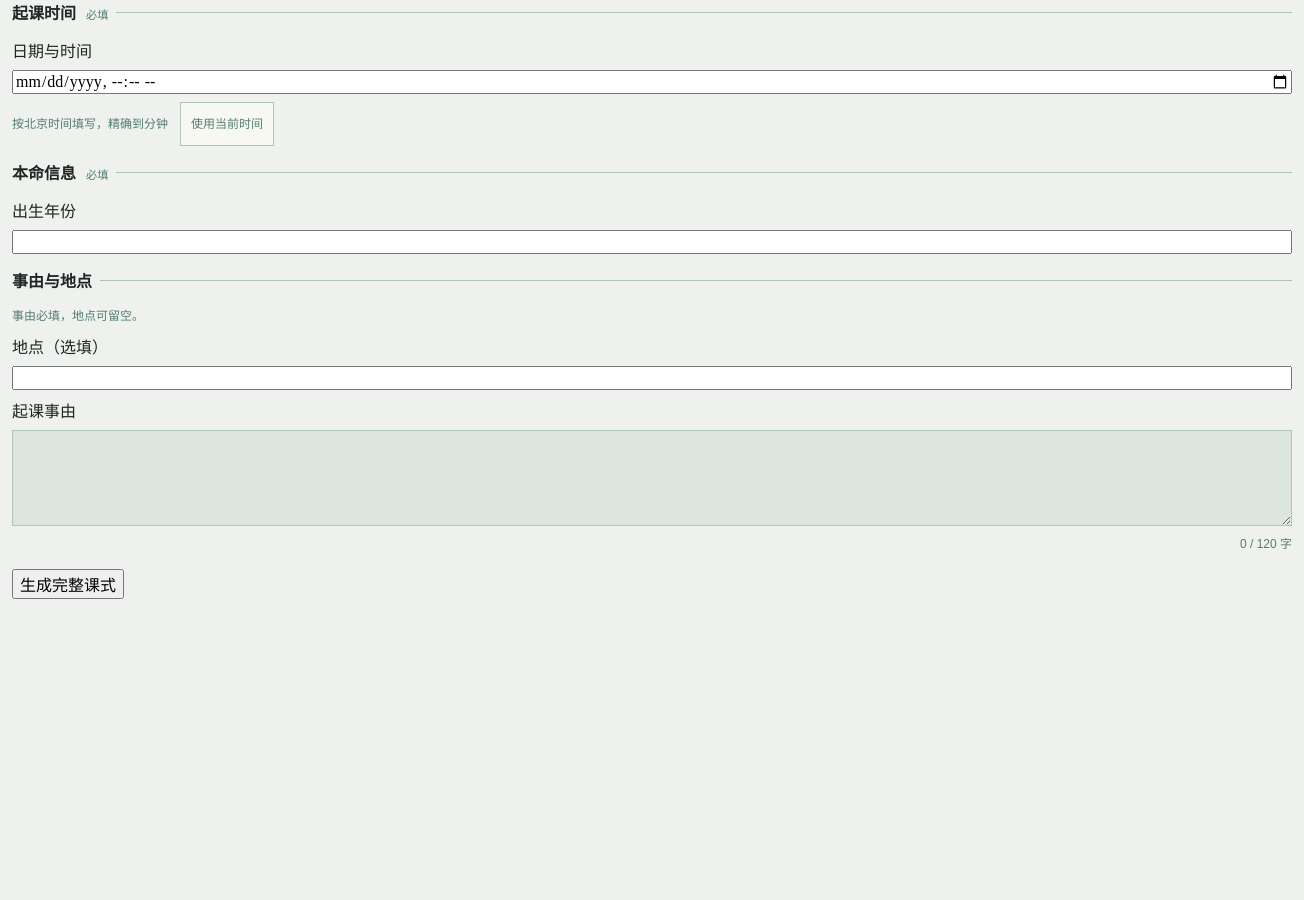
shows concrete errors and does not submit invalid input
This screenshot has width=1304, height=900.
Click the button "生成完整课式": (68, 584) [12,569,124,599]
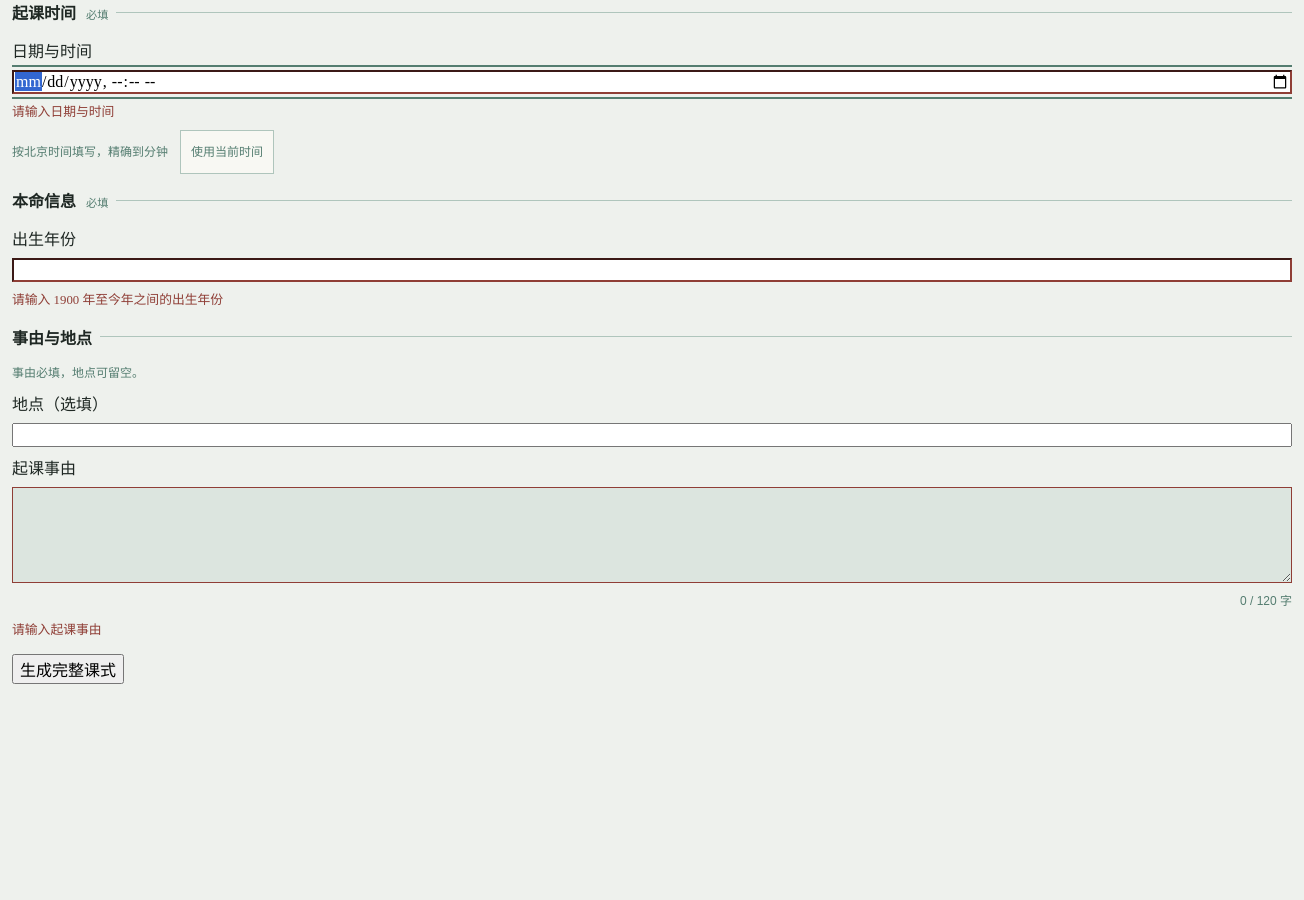
Expected: the text "请输入起课事由" is shown, [12,623,102,637]
